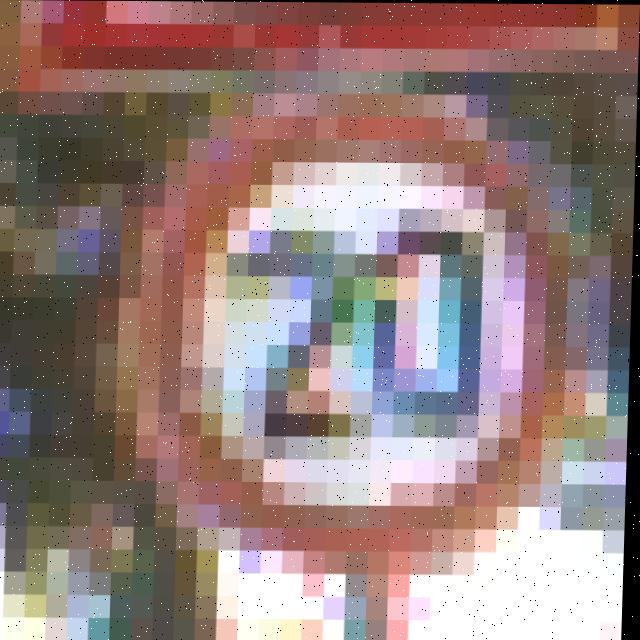speed_limit_20: (132, 109, 609, 586)
